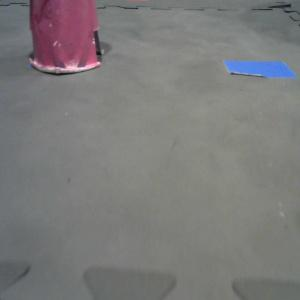middle: (28, 1, 104, 74)
